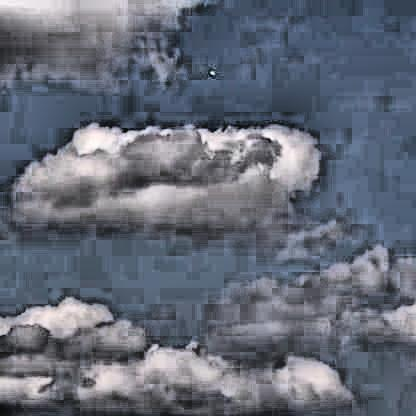golfball: (206, 68, 213, 75)
